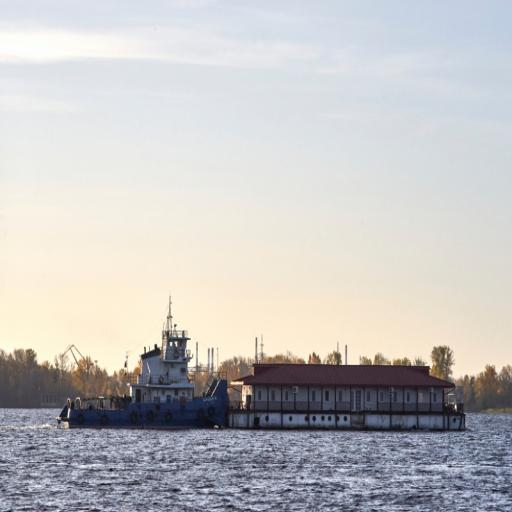tugboat: (56, 313, 235, 443)
